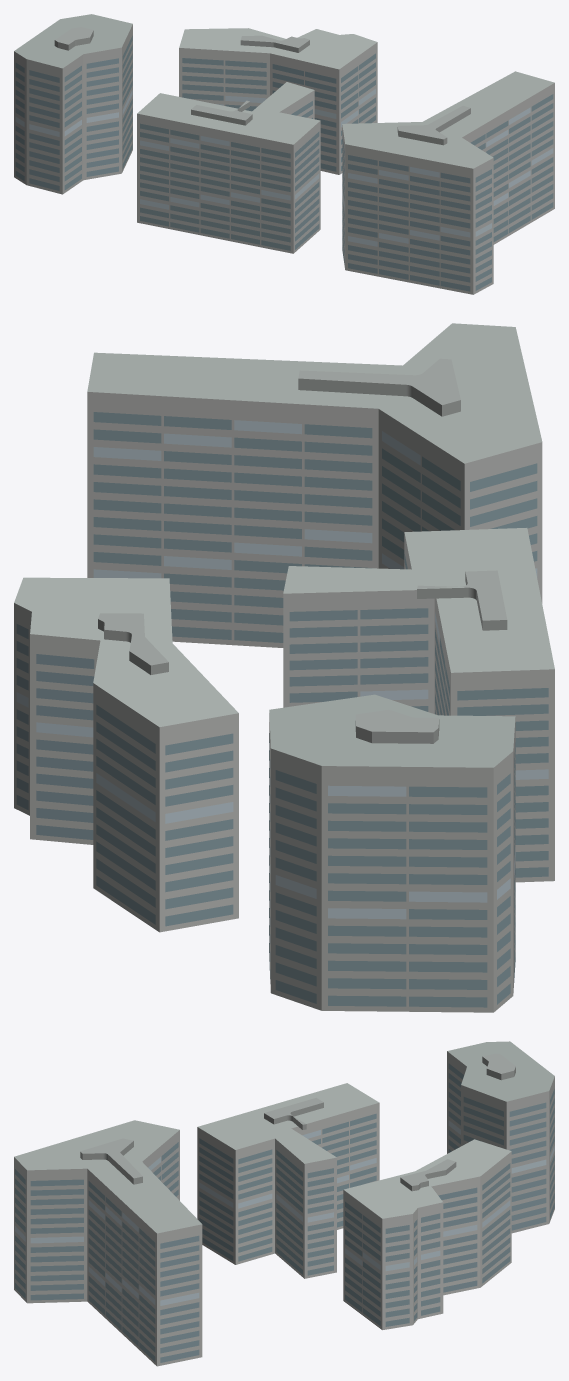
Rendered from apt-a15886508.glb.
The picture shows the model from 3 angles, top to bottom: view 1: azimuth 30°, elevation 25°; view 2: azimuth 150°, elevation 25°; view 3: azimuth 270°, elevation 25°; orthographic projection. The views are drawn at different scales.
Parts seen in each view (by area): view 1: apt-a15886508; view 2: apt-a15886508; view 3: apt-a15886508.
Part boxes in pixels (bbox=[...]): apt-a15886508: bbox=[14, 14, 554, 294]; apt-a15886508: bbox=[14, 323, 554, 1012]; apt-a15886508: bbox=[14, 1041, 554, 1366].
Size of the model in its own units: 109 by 37 by 130.
